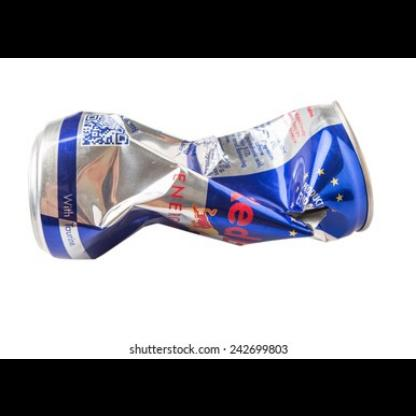Dent_Can: (48, 175, 366, 256), (44, 119, 351, 189)
Tin_Can: (23, 97, 381, 269)
